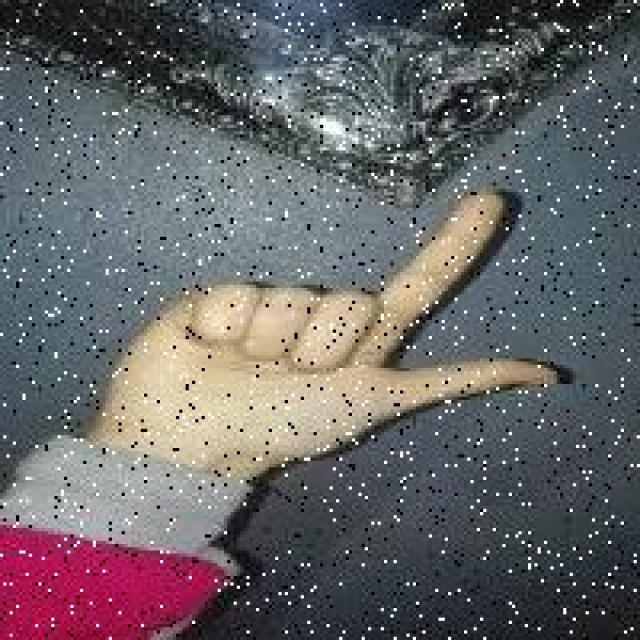L: (112, 176, 579, 461)
